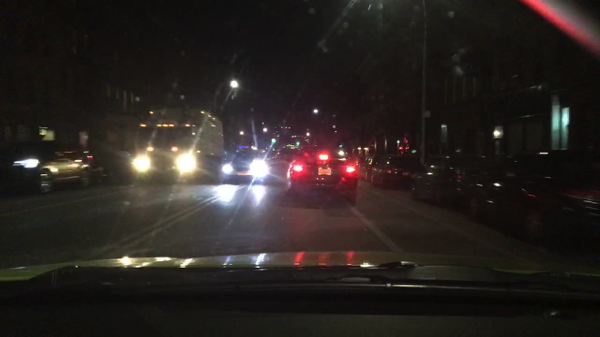car: (468, 146, 598, 244), (1, 142, 94, 194), (409, 154, 491, 204), (286, 148, 358, 198), (355, 153, 422, 184), (221, 148, 268, 182), (95, 150, 132, 182), (355, 152, 383, 178), (277, 149, 297, 162)
traffic light: (339, 140, 342, 150), (295, 140, 297, 147), (271, 138, 272, 146)
traffic sign: (425, 110, 430, 119)
truck: (132, 106, 223, 178)
